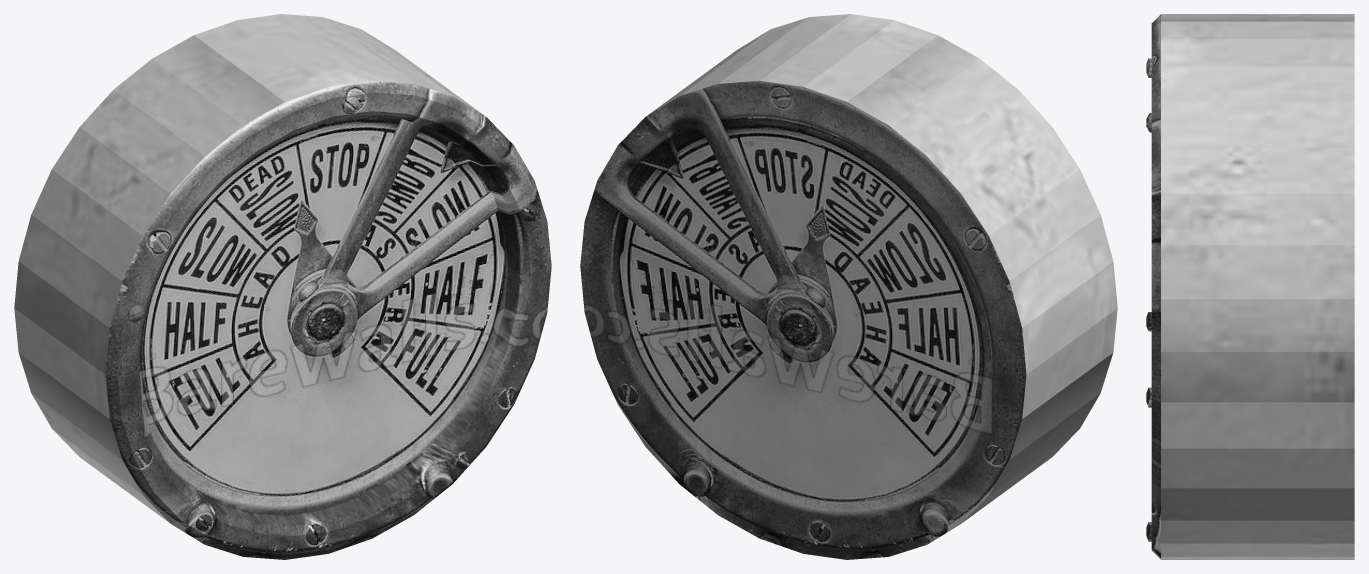
The model's file is engine_signal_body.gltf.
3 renders of one model, left to right at view 1: azimuth 30°, elevation 25°; view 2: azimuth 150°, elevation 25°; view 3: azimuth 270°, elevation 25°, orthographic. The views are drawn at different scales.
Parts seen in each view (by area): view 1: Cylinder; view 2: Cylinder; view 3: Cylinder.
Boxes of the visible parts, x1,y1,x2,y2 form: Cylinder: (14,14,551,559); Cylinder: (580,14,1117,559); Cylinder: (1146,14,1354,559).
Size of the model in its own units: 1.48 by 1.48 by 0.5635.
Materials: 1 (1 with a texture image).
